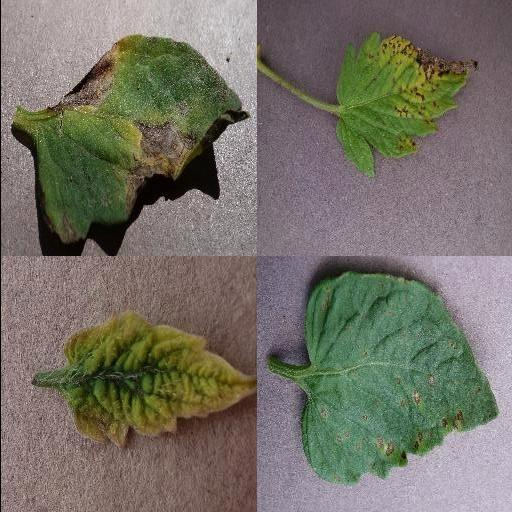Early Blight: (35, 34, 249, 244)
Septoria: (300, 275, 498, 483), (331, 33, 479, 178)
Yellow Leaf Curl Virus: (60, 312, 256, 449)
